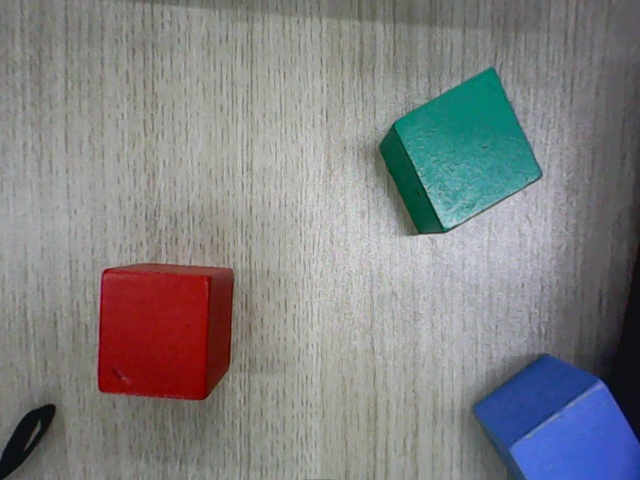upside of big cube: (393, 65, 543, 230), (97, 271, 210, 399), (509, 382, 639, 479)
